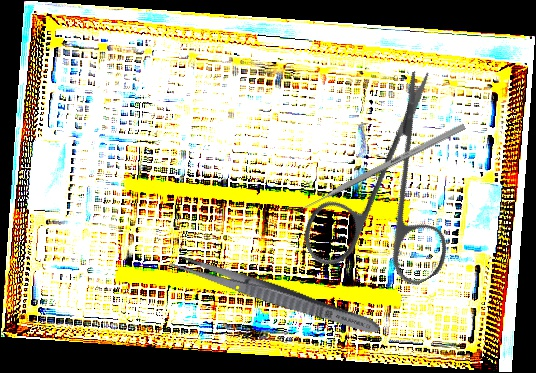Dressing Forceps: (166, 250, 384, 340)
Iris Scissors: (257, 65, 518, 324)
Pusher: (291, 122, 467, 217)
